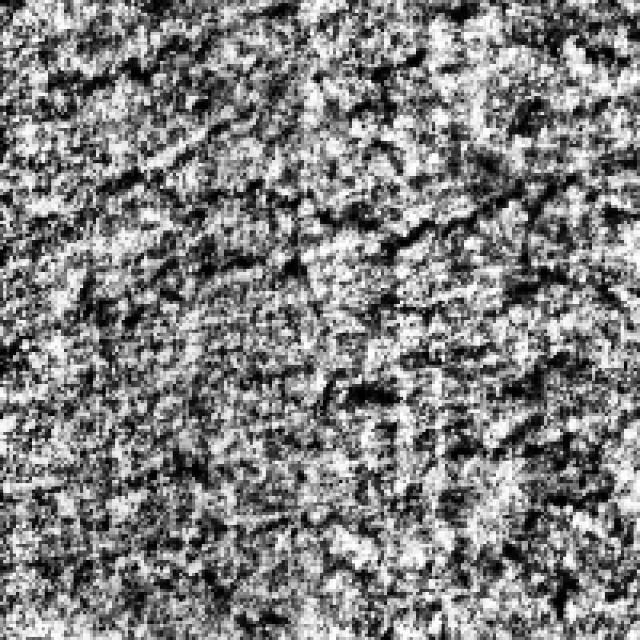Pitted_Surface: (60, 156, 618, 324), (336, 346, 621, 598)
